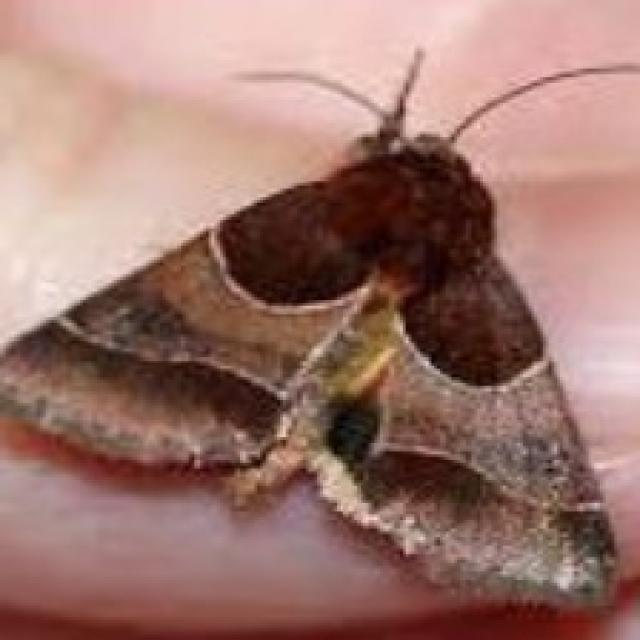butterfly: (0, 40, 637, 614)
